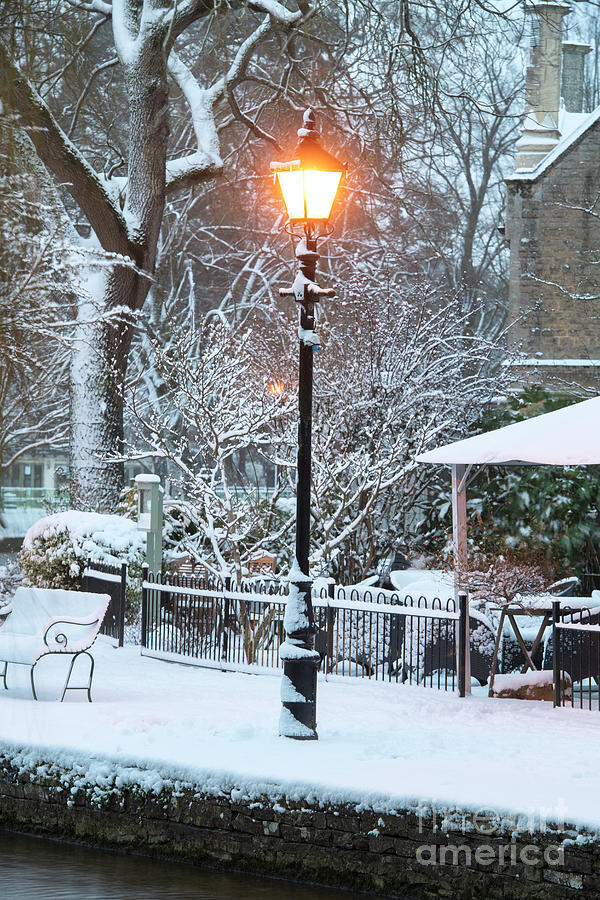Lamp: (231, 92, 368, 746)
